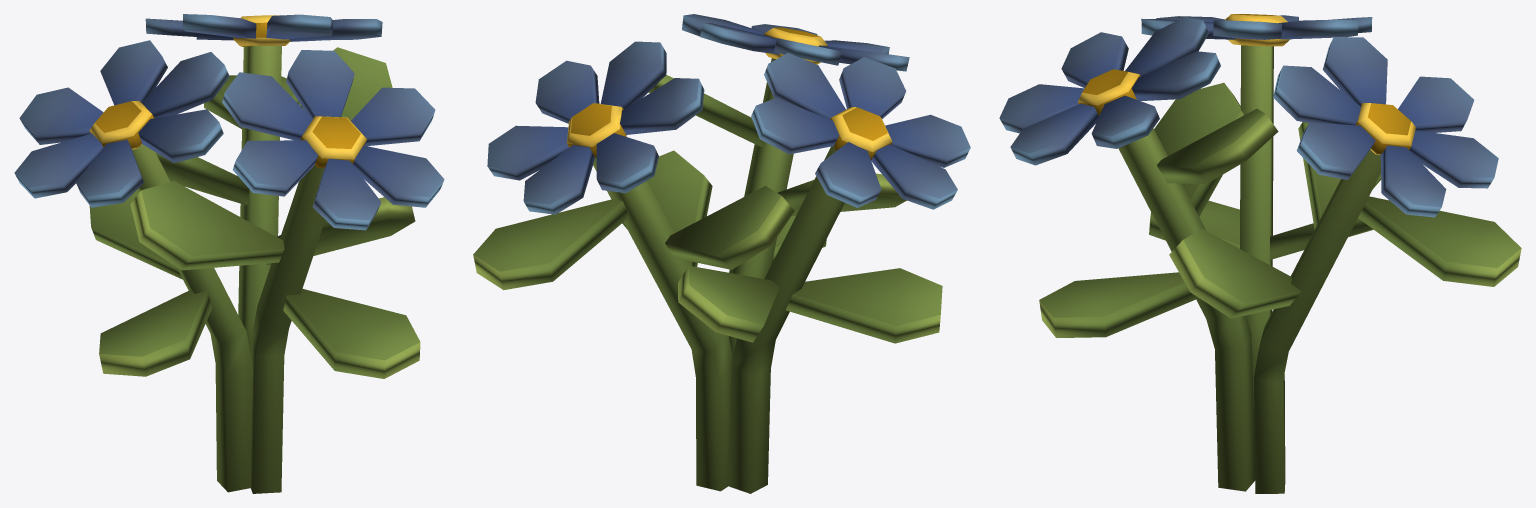
Rendered from flower_bunch_blue.fbx.
3 renders of one model, left to right at view 1: azimuth 30°, elevation 25°; view 2: azimuth 150°, elevation 25°; view 3: azimuth 270°, elevation 25°, orthographic. The views are drawn at different scales.
Visible parts, largest first — view 1: flower_bunch_blue; view 2: flower_bunch_blue; view 3: flower_bunch_blue.
Boxes of the visible parts, bbox=[...] form: flower_bunch_blue: bbox=[14, 14, 444, 493]; flower_bunch_blue: bbox=[473, 14, 970, 493]; flower_bunch_blue: bbox=[999, 14, 1521, 493].
Bounding box in the file's own units: 79.04 × 83.97 × 88.9.
